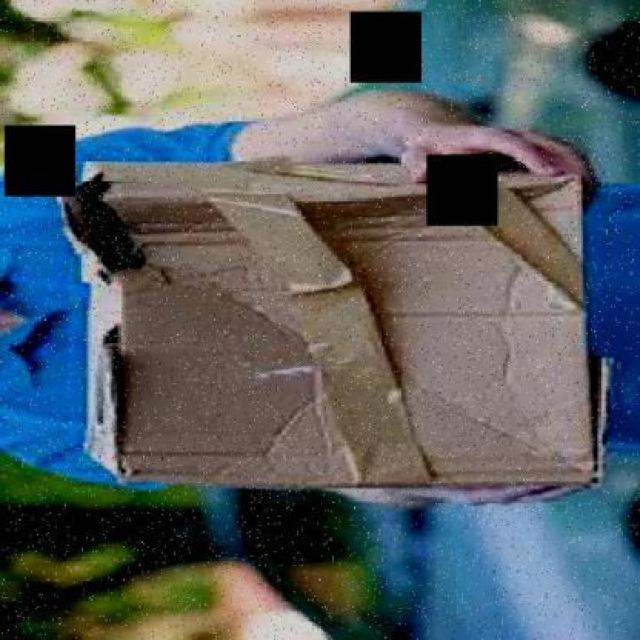box: (54, 146, 621, 503)
